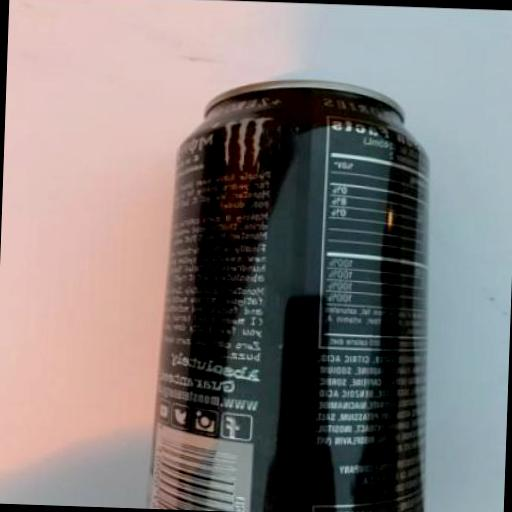metal: (145, 71, 438, 512)
